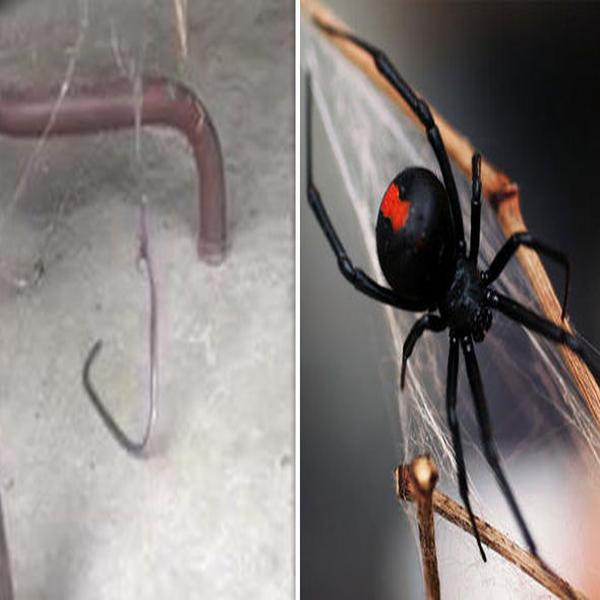Redback Spider: (308, 26, 593, 559)
